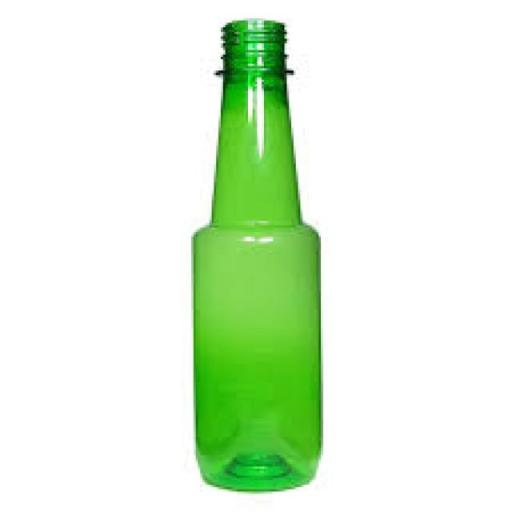glass: (174, 12, 330, 504)
